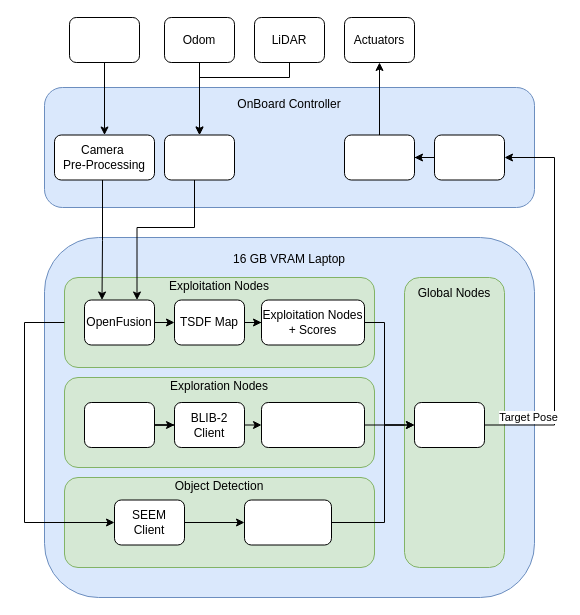
This 580x615 diagram has some shape labels left out. Here are the shapes that lost their labels. From the top down, the centre of each, then its label:
At point (104, 39): "RGB-D Images".
At point (199, 157): "SLAM".
At point (379, 157): "Local Planner".
At point (469, 157): "Global Planner".
At point (119, 425): "Frontiers".
At point (312, 425): "Exploration Nodes + Score".
At point (449, 425): "Node Fusion".
At point (288, 522): "Object Detection Node + Score".
